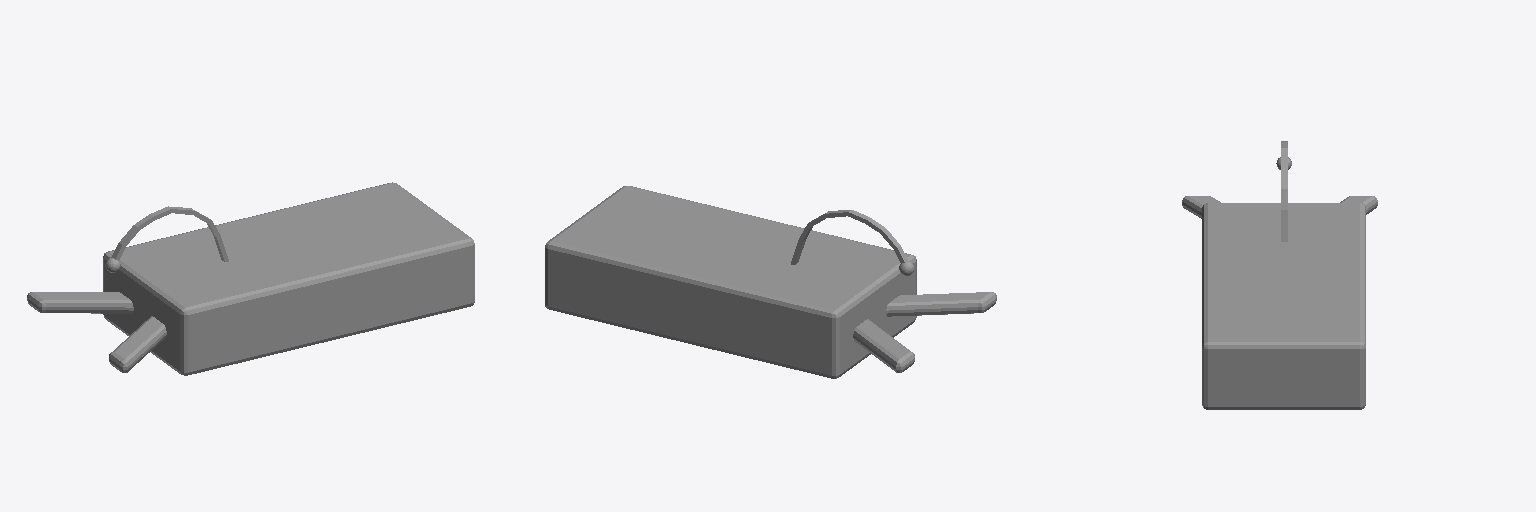
File: Destructeur.obj
The picture shows the model from 3 angles: view 1: azimuth 30°, elevation 25°; view 2: azimuth 150°, elevation 25°; view 3: azimuth 270°, elevation 25°; orthographic projection.
Visible parts, largest first — view 1: Cube_Cube.001; view 2: Cube_Cube.001; view 3: Cube_Cube.001.
Boxes of the visible parts, <box> form: Cube_Cube.001: <box>27,182,474,375</box>; Cube_Cube.001: <box>545,186,996,378</box>; Cube_Cube.001: <box>1182,141,1377,409</box>.
Size of the model in its own units: 5.12 by 1.81 by 2.39.